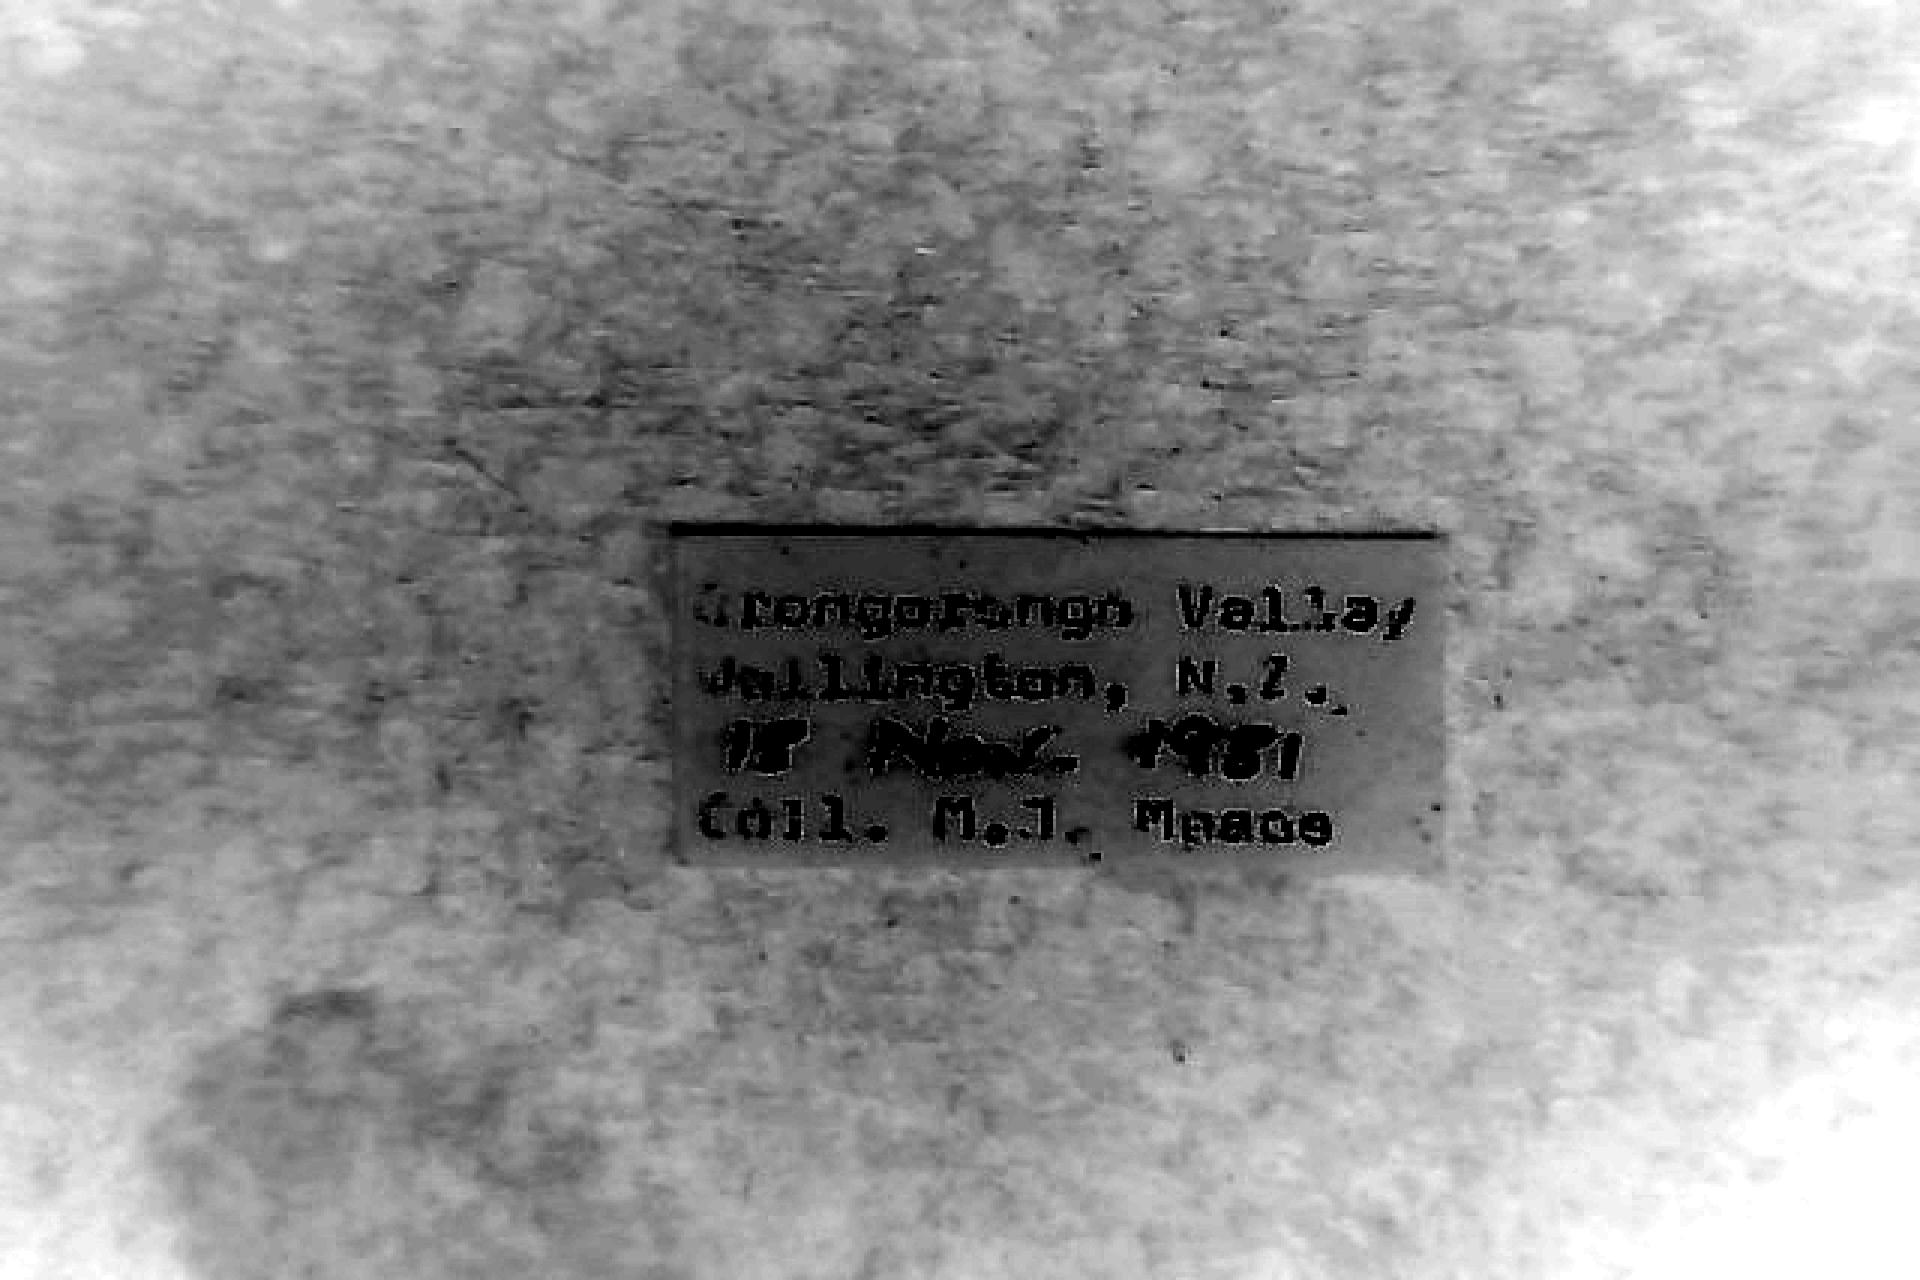mixed_label: (674, 534, 1441, 869)
